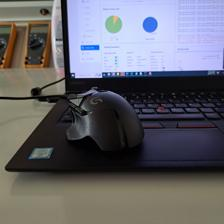mouse: (63, 84, 144, 156)
